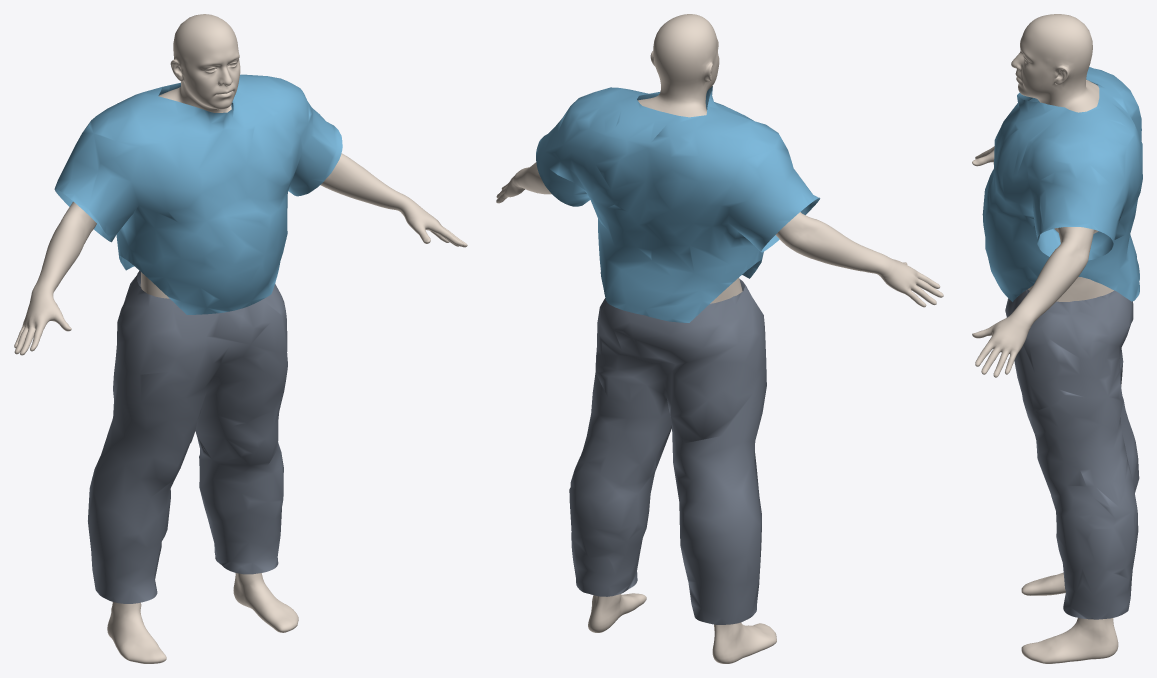
File: rest.glb
The picture shows the model from 3 angles, left to right: view 1: azimuth 30°, elevation 25°; view 2: azimuth 150°, elevation 25°; view 3: azimuth 270°, elevation 25°; orthographic projection.
Parts seen in each view (by area): view 1: pants, shirt, body; view 2: pants, shirt, body; view 3: pants, shirt, body.
Boxes of the visible parts, x1=… form: pants: x1=88, y1=271, x2=287, y2=603; shirt: x1=54, y1=74, x2=342, y2=314; body: x1=14, y1=14, x2=467, y2=663; pants: x1=569, y1=279, x2=766, y2=624; shirt: x1=536, y1=86, x2=820, y2=322; body: x1=496, y1=14, x2=943, y2=663; pants: x1=1005, y1=289, x2=1139, y2=619; shirt: x1=982, y1=67, x2=1142, y2=301; body: x1=972, y1=14, x2=1118, y2=663.
Size of the model in its own units: 1.34 by 1.78 by 0.4524.
